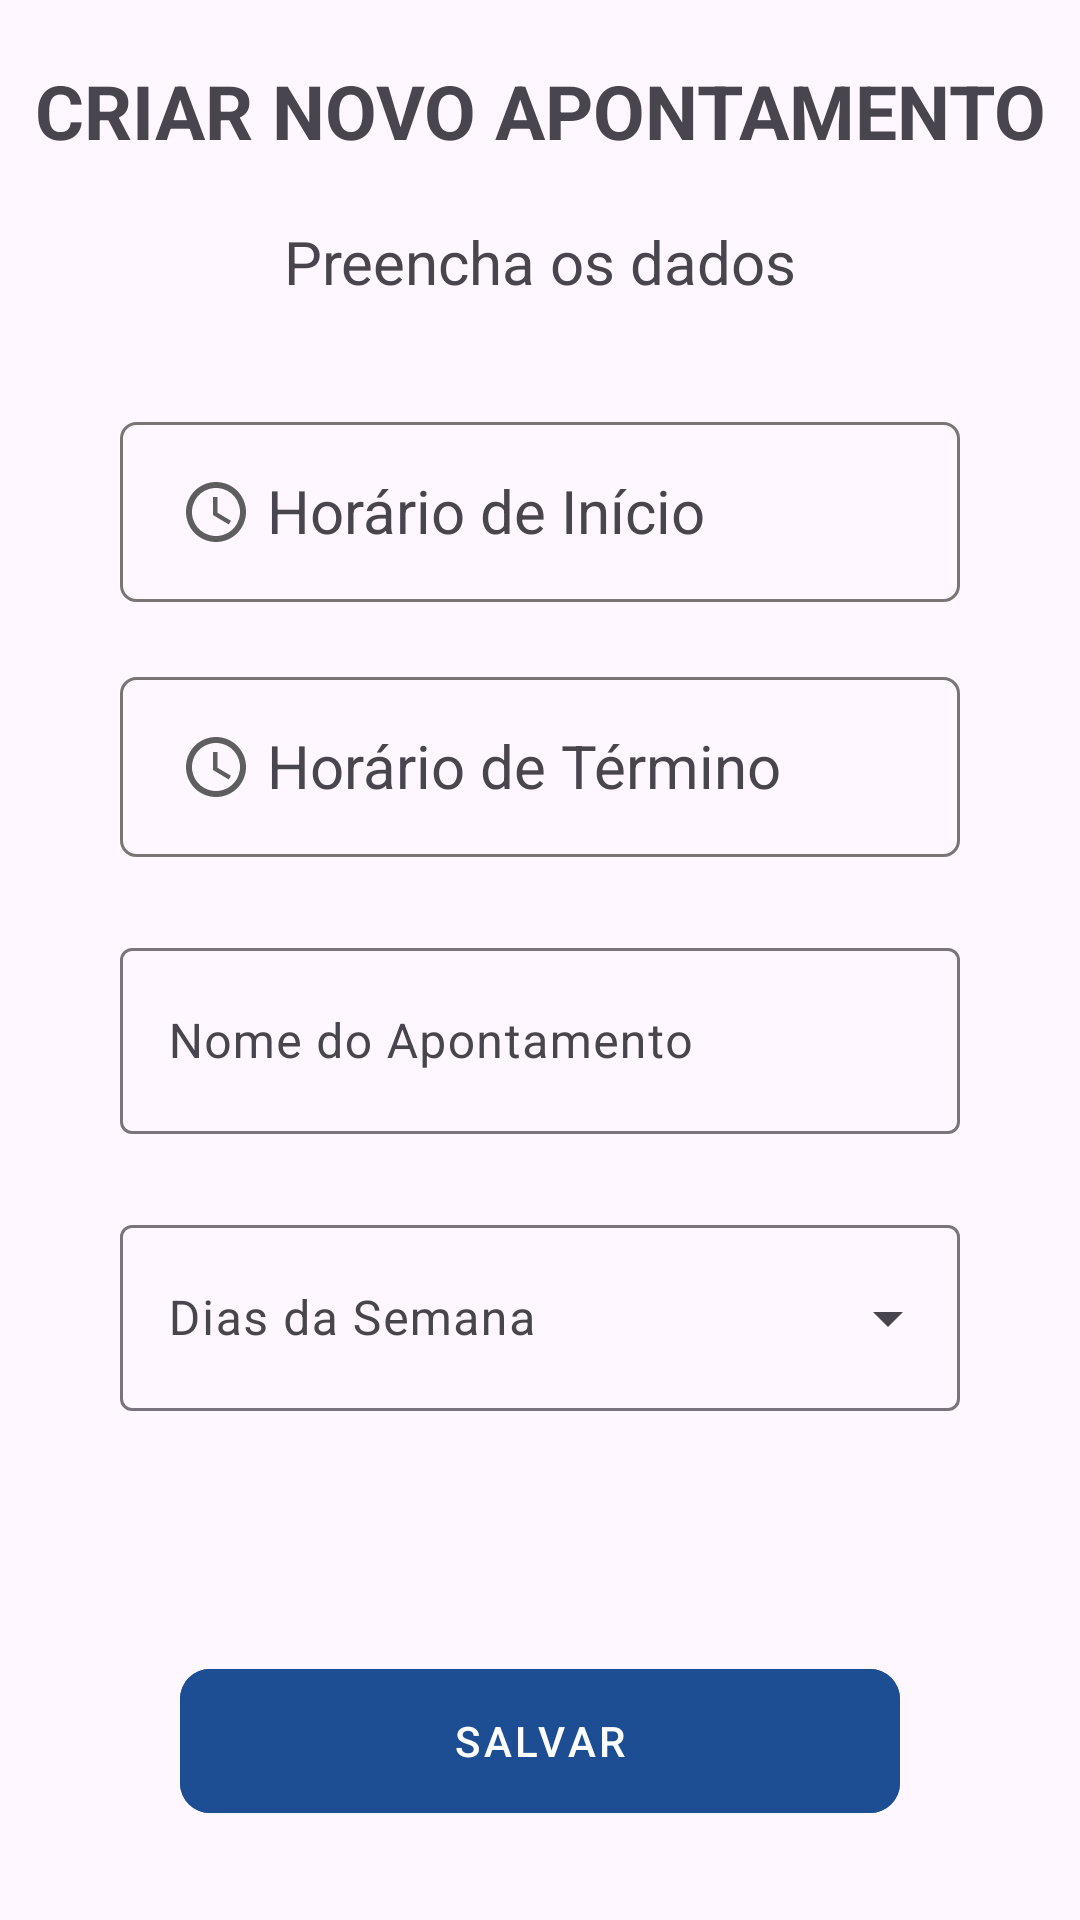

Icons on this 1080×1920 Android screen, each with the point to tap as [x,y]:
access time: [216,512], [216,767]
